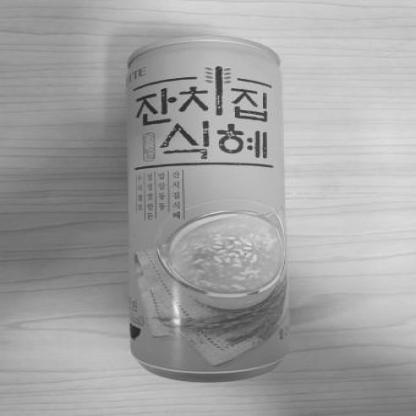alumunium_can: (112, 36, 300, 402)
